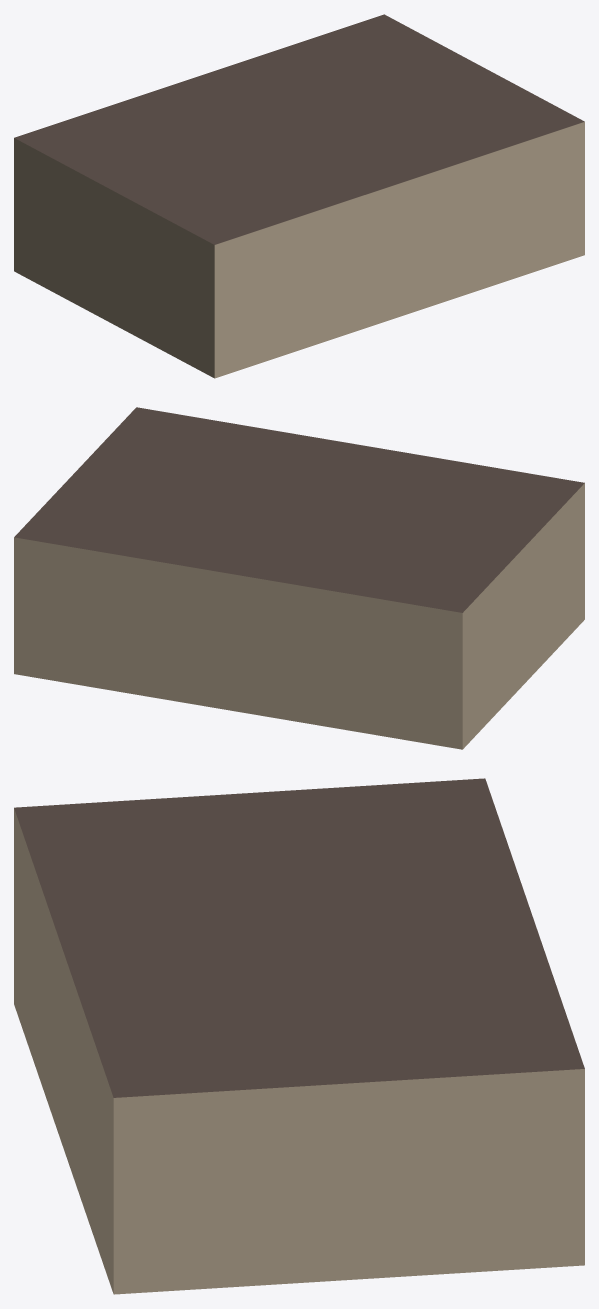
3 renders of one model, top to bottom at view 1: azimuth 30°, elevation 25°; view 2: azimuth 150°, elevation 25°; view 3: azimuth 270°, elevation 25°, orthographic. The views are drawn at different scales.
Visible parts, largest first — view 1: HP-w194472167; view 2: HP-w194472167; view 3: HP-w194472167.
Part boxes in pixels (box(x1,y1,x2,y2)): HP-w194472167: box(14, 14, 584, 378); HP-w194472167: box(14, 407, 584, 749); HP-w194472167: box(14, 778, 584, 1294).
Bounding box in the file's own units: 31.38 × 9 × 23.69.
